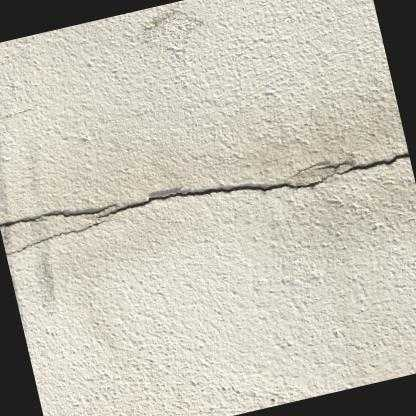crack: (99, 186, 258, 218), (5, 219, 112, 255), (0, 204, 114, 227)
